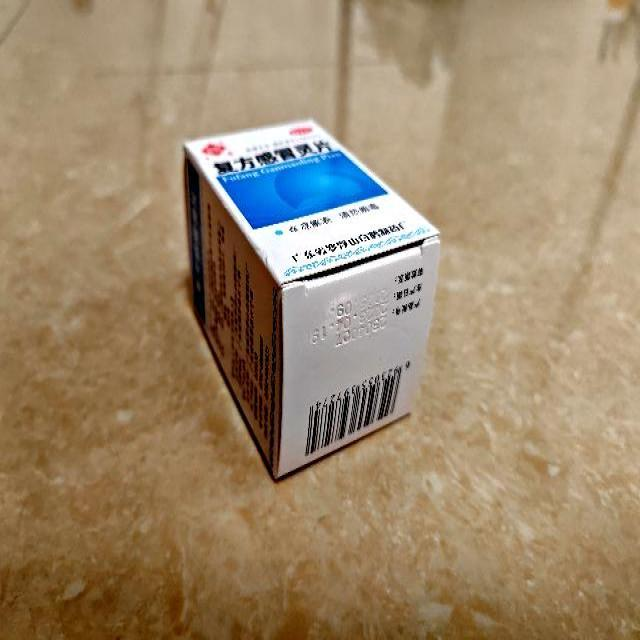box: (182, 118, 440, 480)
